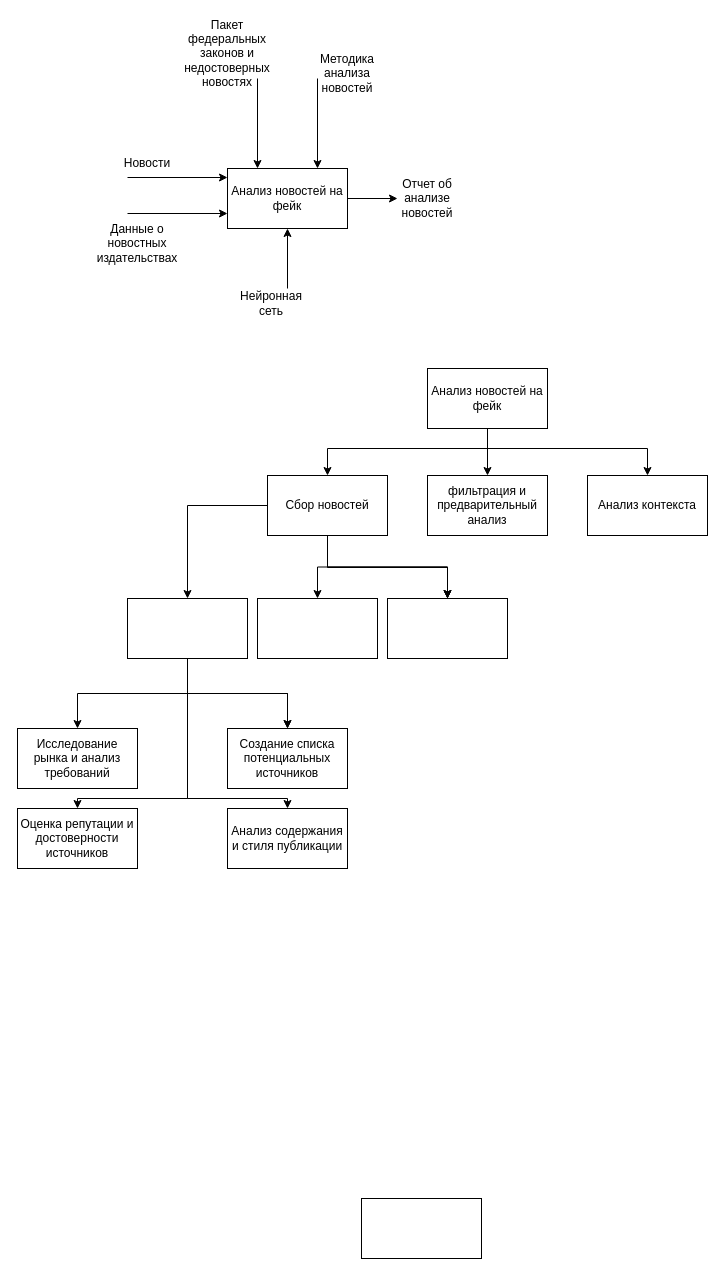
The diagram is 725 pixels wide and 1276 high, and some of its shapes have lost their labels. The centre of each missing label's shape, as x and y in pixels:
Выбор инструментов автоматизации сбора: the point at 447,628
Определение источников новостей: the point at 187,628
Установка критериев достоверности и разработка системы фильтрации: the point at 317,628
